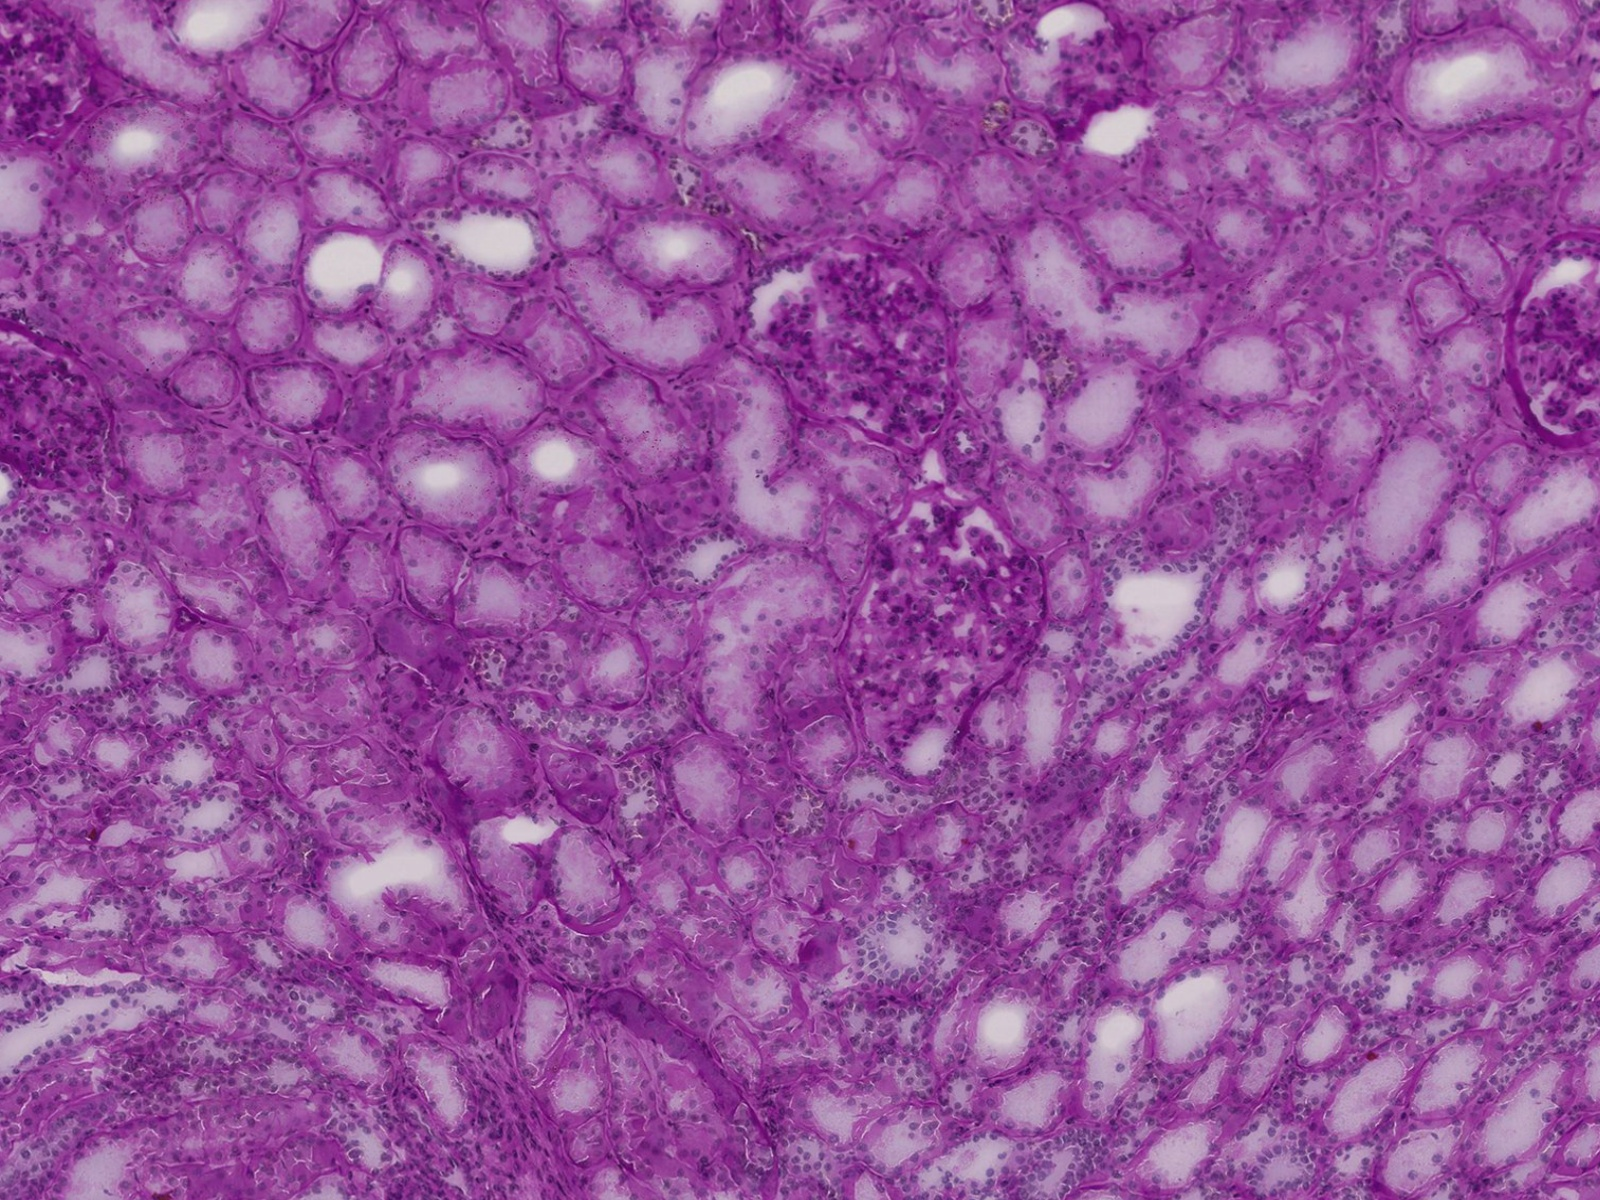Glomeruli: (839, 479, 1057, 729), (740, 232, 968, 453), (1, 316, 123, 502), (1507, 252, 1595, 449), (3, 1, 101, 161)
